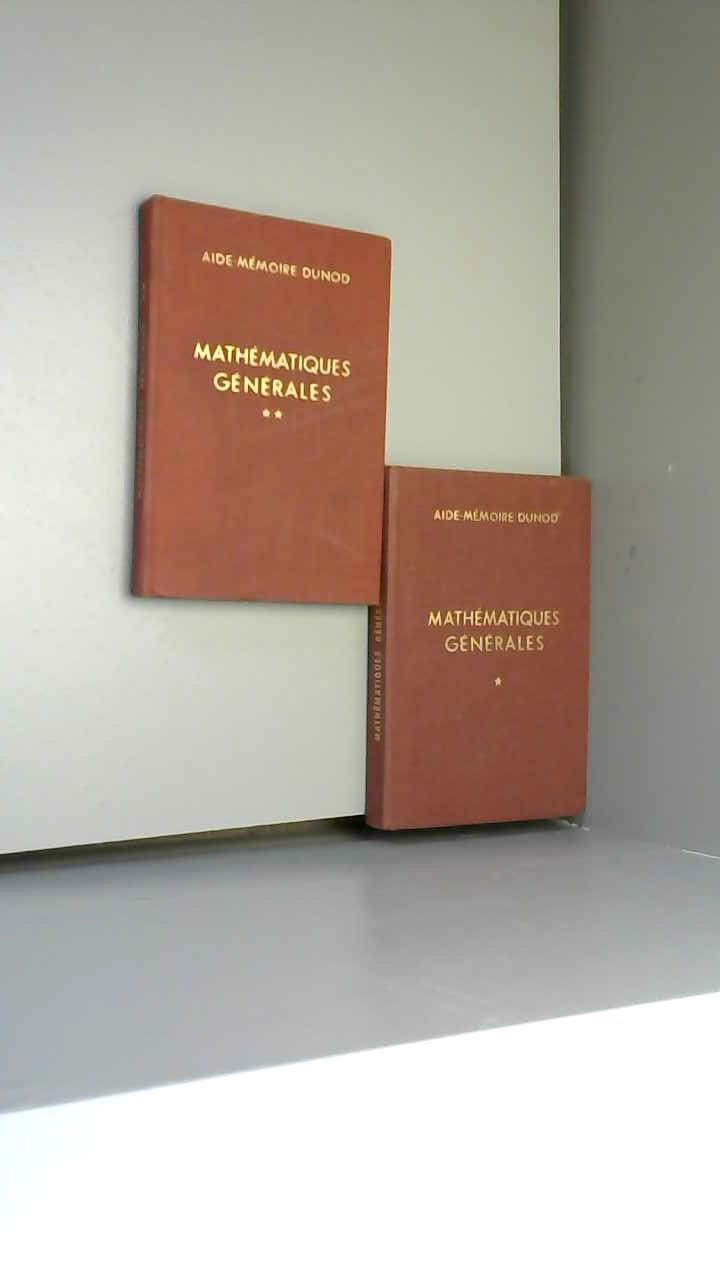book: (109, 185, 623, 881)
